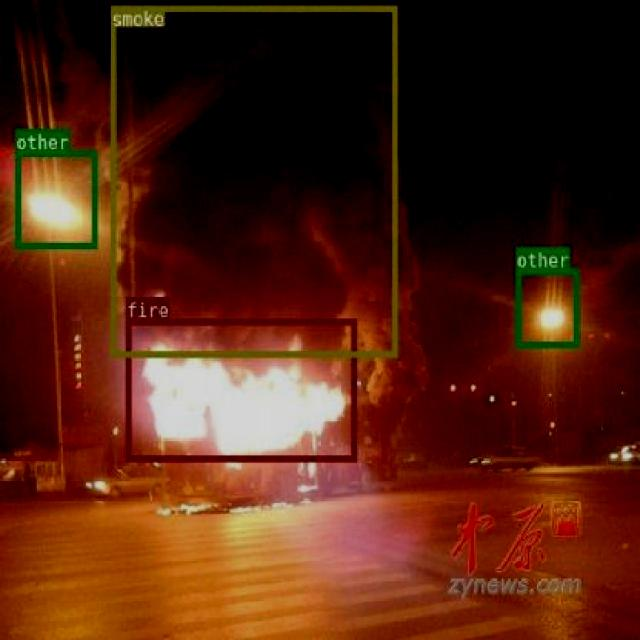fire: (124, 318, 356, 460)
smoke: (110, 4, 396, 356)
